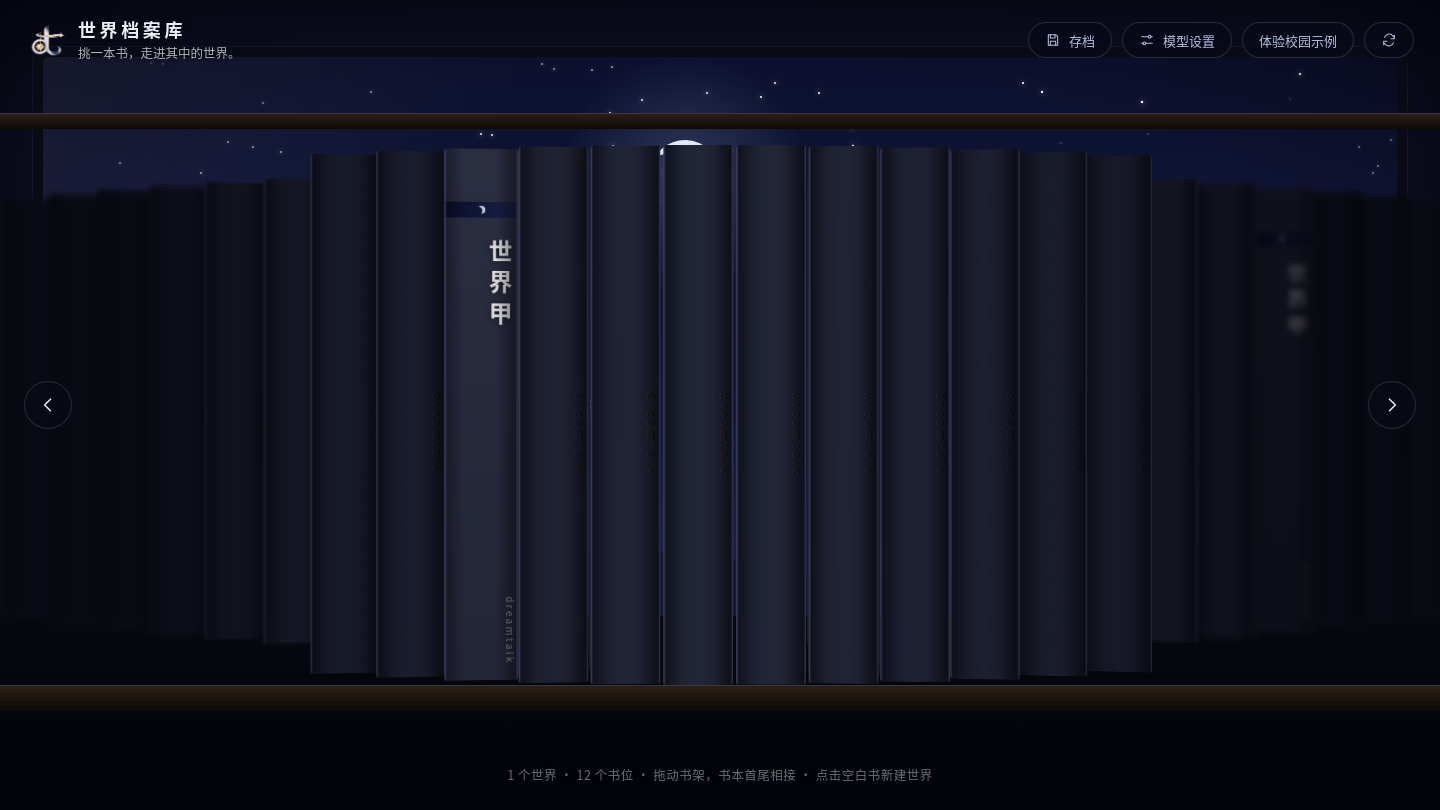
creates and switches worlds using the product client
Click the button with aria-label "创建或导入一个新世界，空白书 1" at (559, 412), box top-left (528, 170), bottom-right (591, 654)
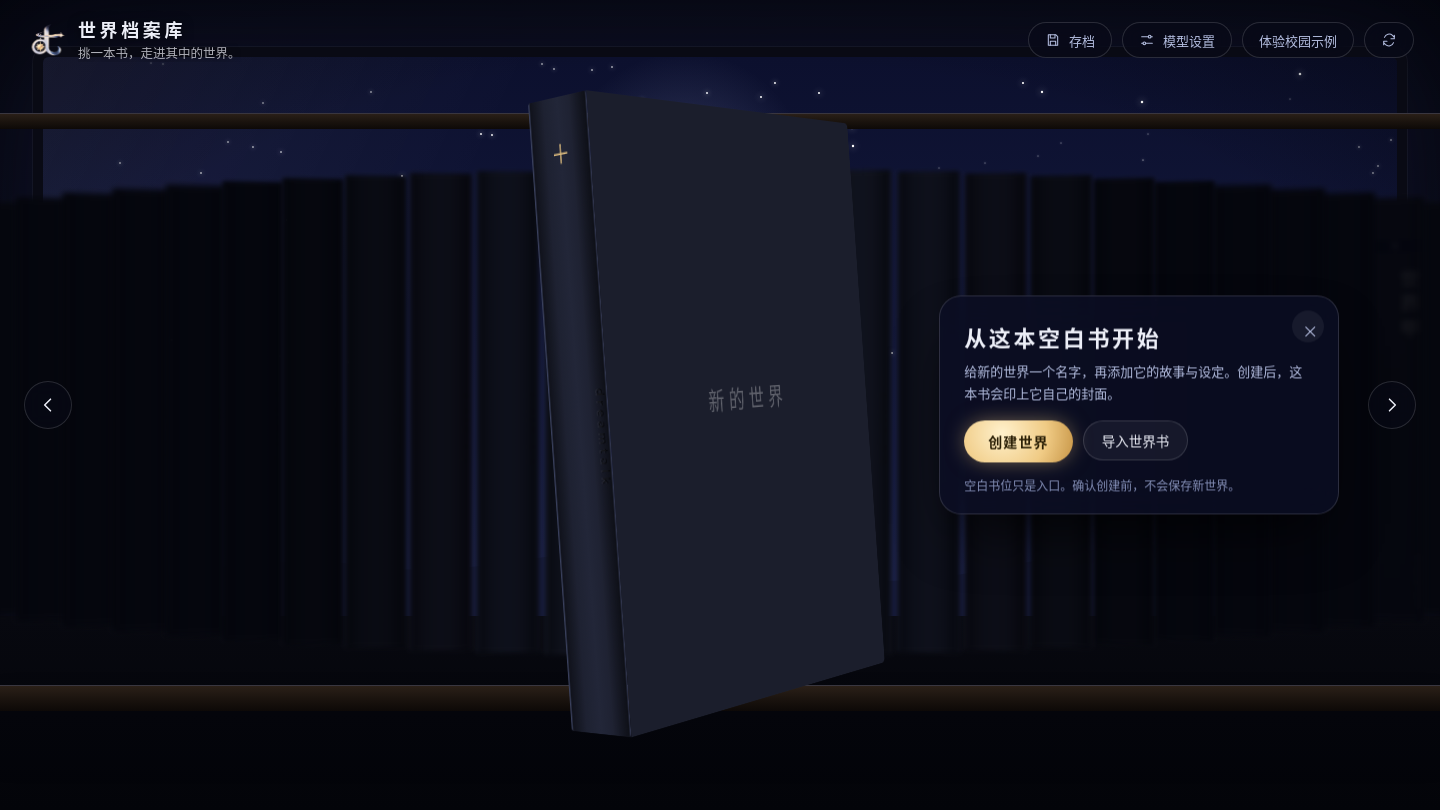
Click the button "创建世界" at (1018, 442), box top-left (964, 421), bottom-right (1073, 463)
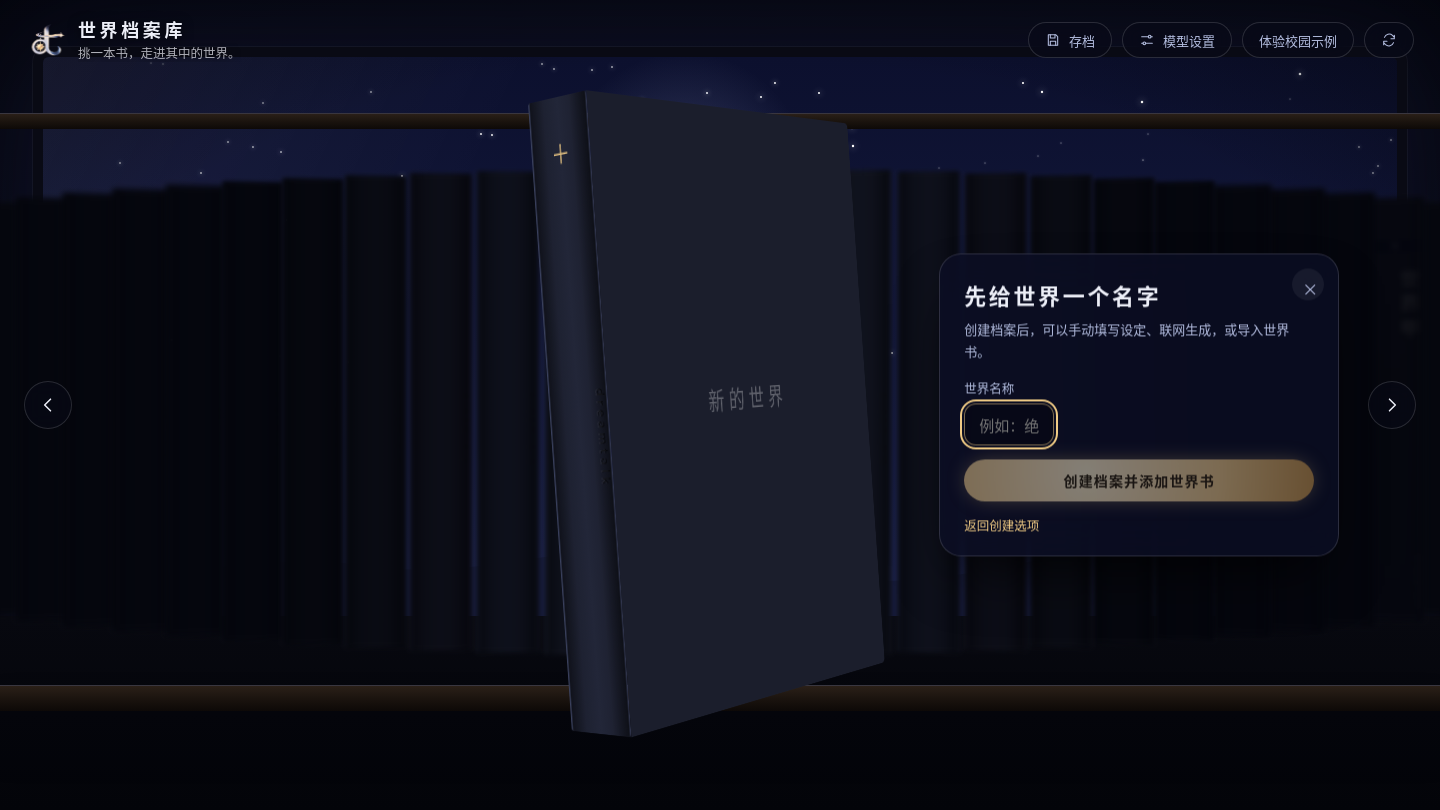
Type "世界乙" into the field with placeholder "例如：绝区零" at (1009, 425), box top-left (964, 404), bottom-right (1054, 446)
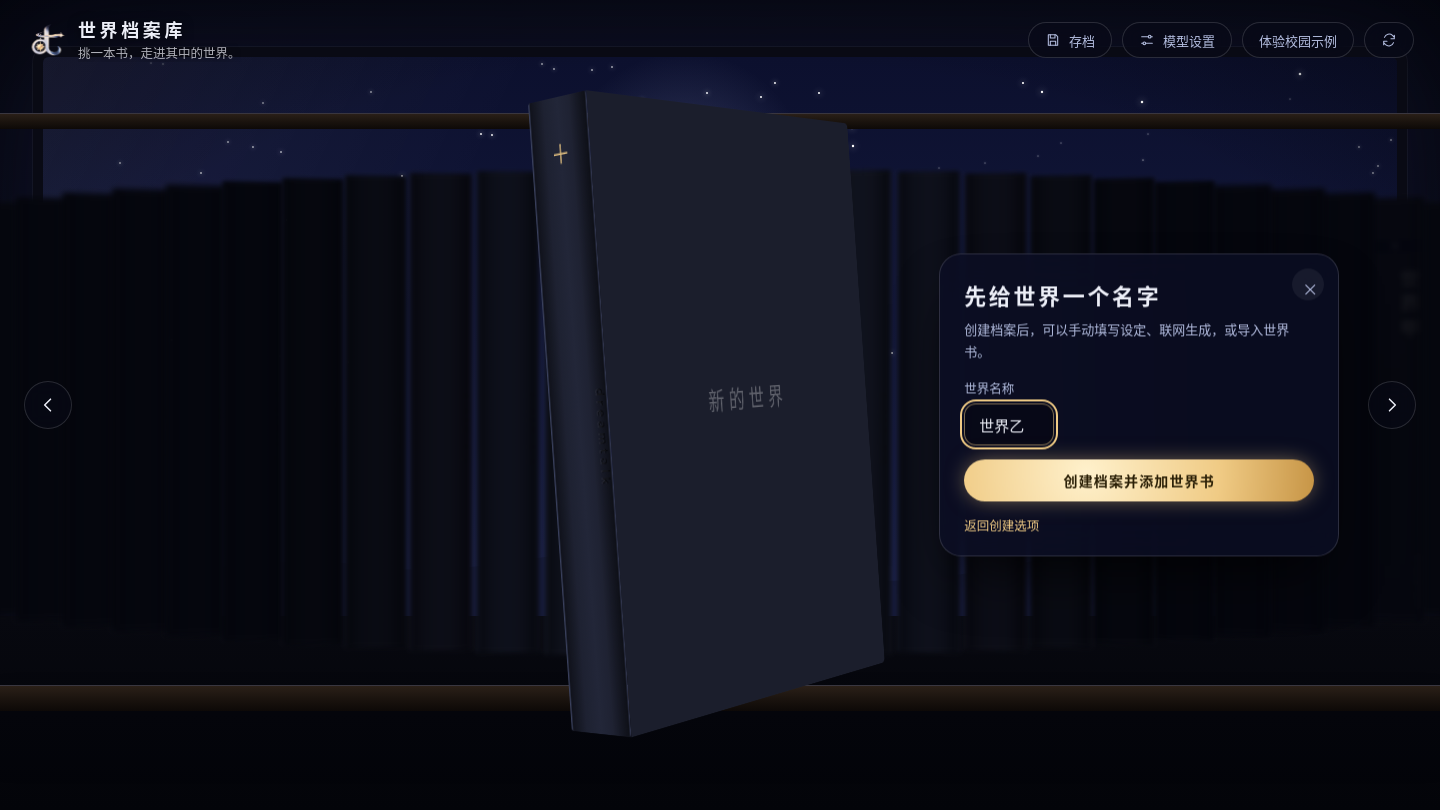
Click the button "创建档案并添加世界书" at (1139, 481), box top-left (964, 460), bottom-right (1314, 502)
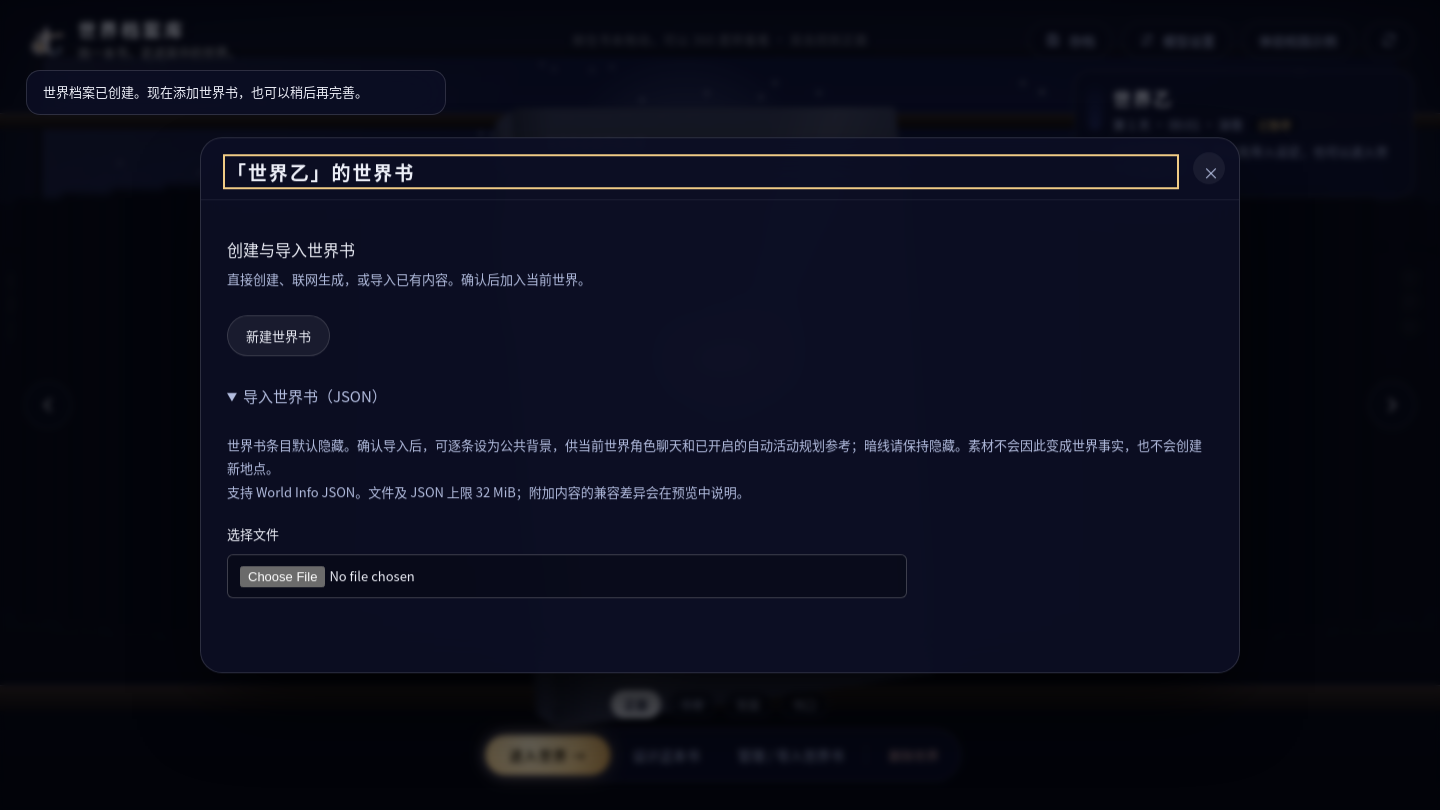
Now the button with aria-label "预览世界：世界乙" is shown, box top-left (686, 107), bottom-right (756, 700)
